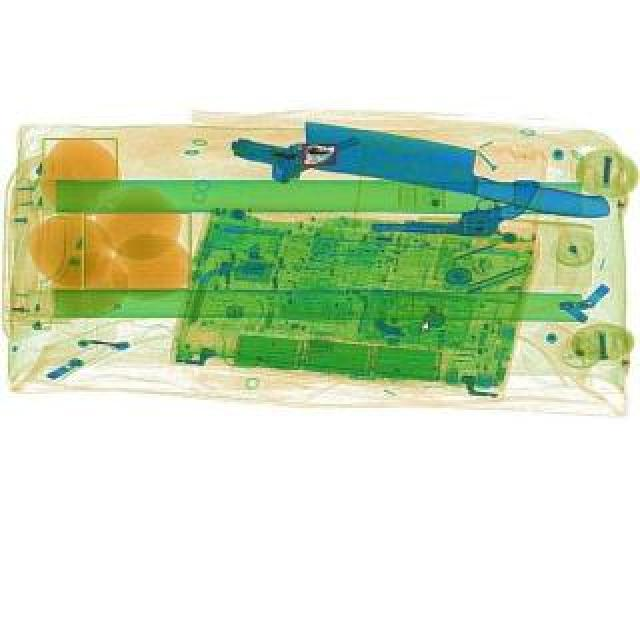gun: (230, 92, 366, 196), (372, 174, 540, 238)
knife: (296, 118, 620, 222)
